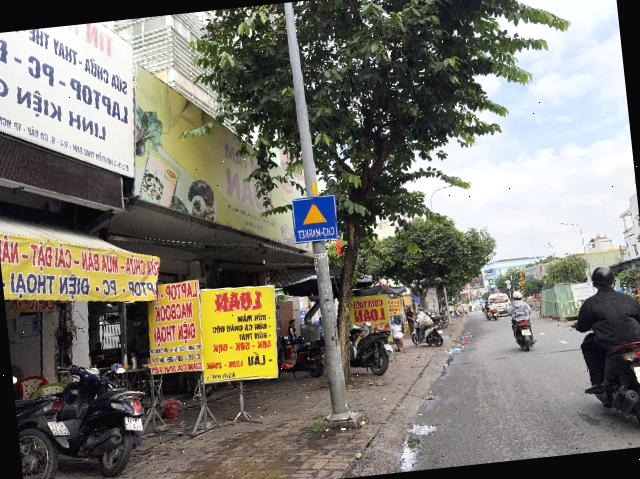khu-vuc-cho-phia-truoc: (290, 193, 340, 244)
